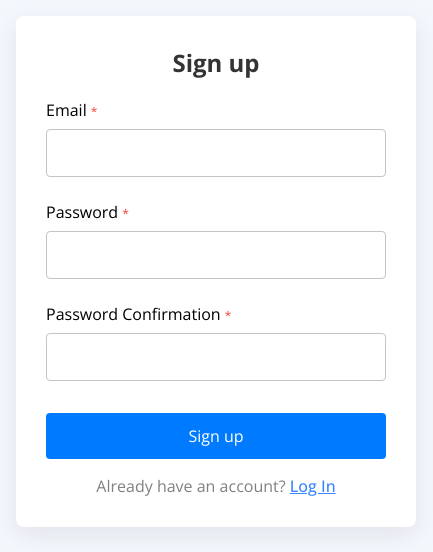
Register-tests: › Cannot register when passwords is too short
The width and height of the screenshot is (433, 552).
Type "testi@testi.com" into the field with id "email". click: (216, 153)
box: left=46, top=129, right=386, bottom=177
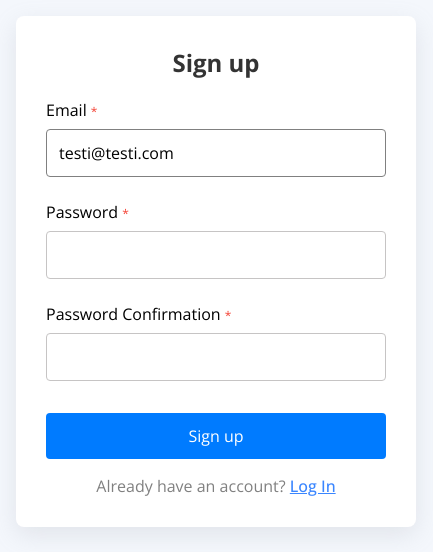
Type "12345" into the password field labelled "Password". click: (216, 255)
box: left=46, top=231, right=386, bottom=279
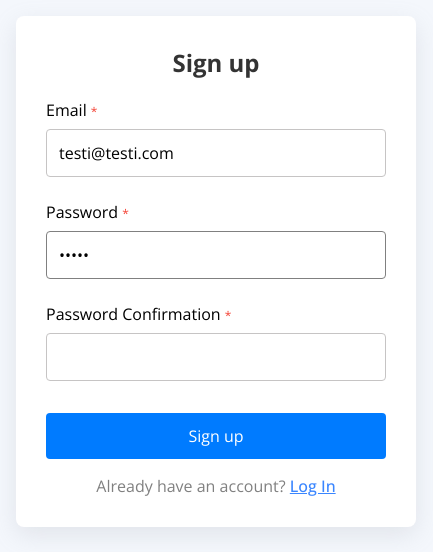
Type "12345" into the password field labelled "Password Confirmation". click: (216, 357)
box: left=46, top=333, right=386, bottom=381
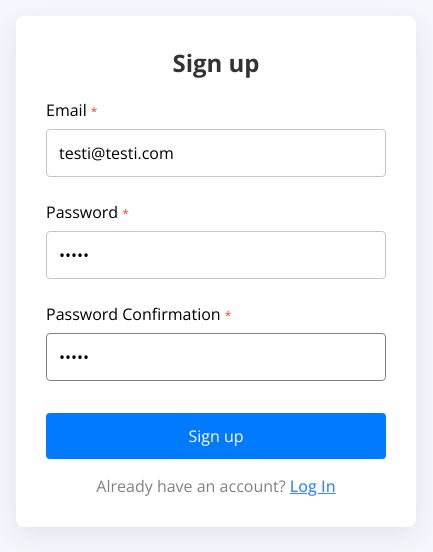
Click the button with id "register-button". click: (216, 436)
box: left=46, top=413, right=386, bottom=459
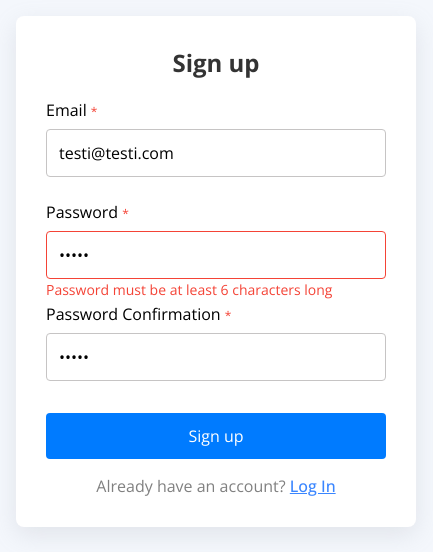
Result: the text "Password must be at least 6 characters long" is shown at left=46, top=280, right=332, bottom=298
